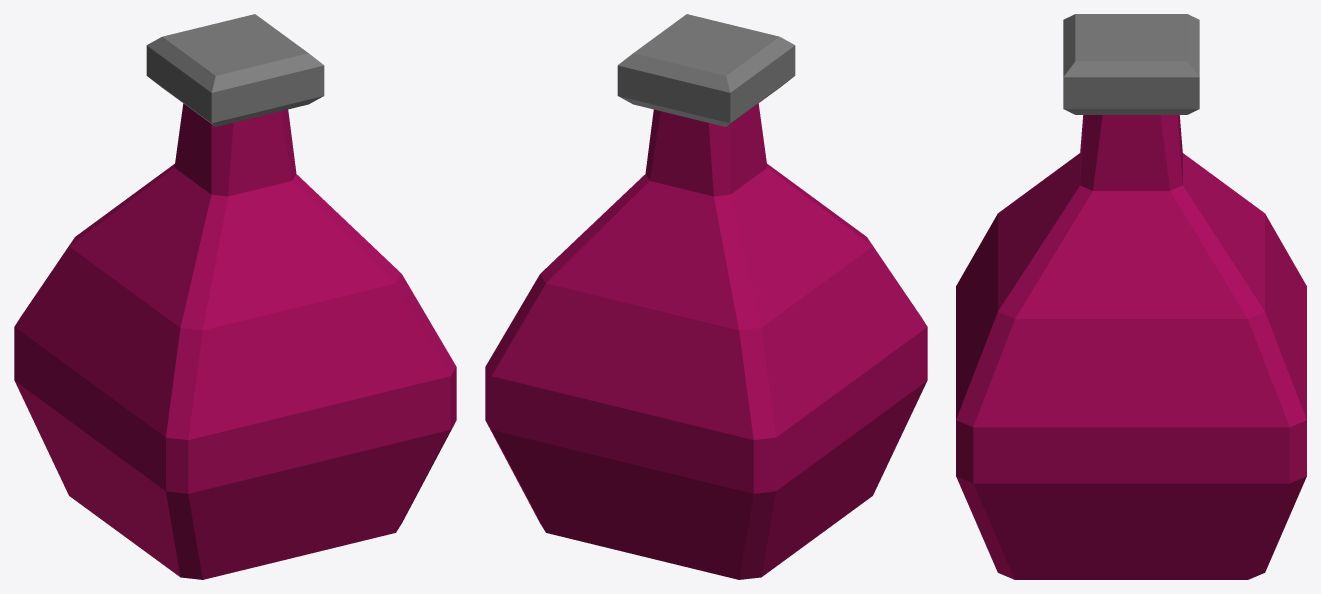
Rendered from pink_potion.glb.
The picture shows the model from 3 angles, left to right: view 1: azimuth 30°, elevation 25°; view 2: azimuth 150°, elevation 25°; view 3: azimuth 270°, elevation 25°; orthographic projection. The views are drawn at different scales.
Visible parts, largest first — view 1: Cube; view 2: Cube; view 3: Cube.
Part boxes in pixels (x1,y1,x2,y2): Cube: (14,14,456,579); Cube: (485,14,927,579); Cube: (956,14,1306,579).
Bounding box in the file's own units: 2 × 3.06 × 2.
